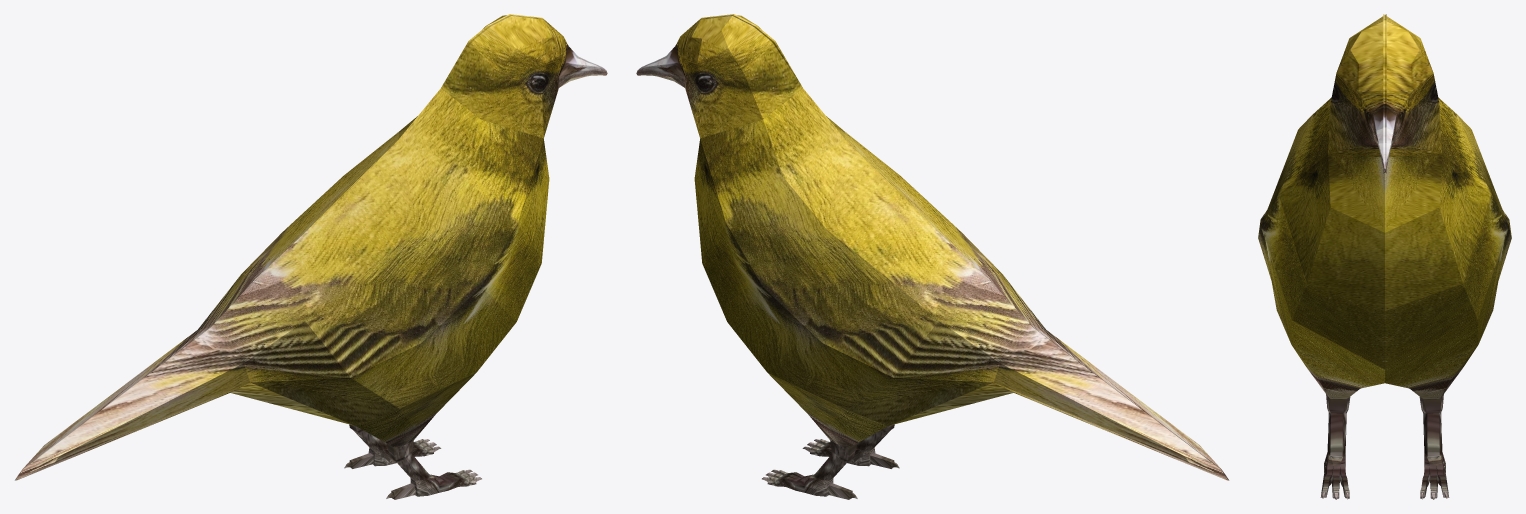
The model's file is amahiki.fbx.
The picture shows the model from 3 angles, left to right: view 1: azimuth 30°, elevation 25°; view 2: azimuth 150°, elevation 25°; view 3: azimuth 270°, elevation 25°; orthographic projection. The views are drawn at different scales.
Parts seen in each view (by area): view 1: Cube; view 2: Cube; view 3: Cube.
Boxes of the visible parts, bbox=[...] form: Cube: bbox=[14, 14, 607, 499]; Cube: bbox=[636, 14, 1229, 499]; Cube: bbox=[1258, 14, 1511, 499].
Size of the model in its own units: 195 by 138 by 61.27.
Materials: 1 (1 with a texture image).
